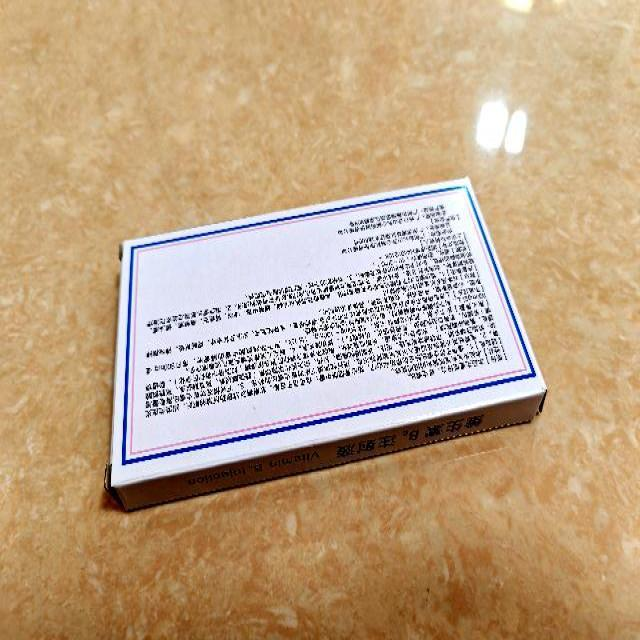box: (108, 176, 548, 512)
